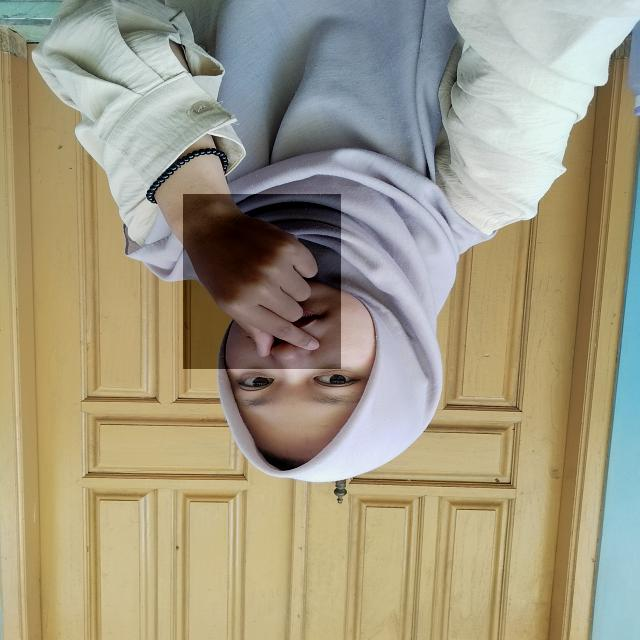bau: (183, 194, 341, 369)
